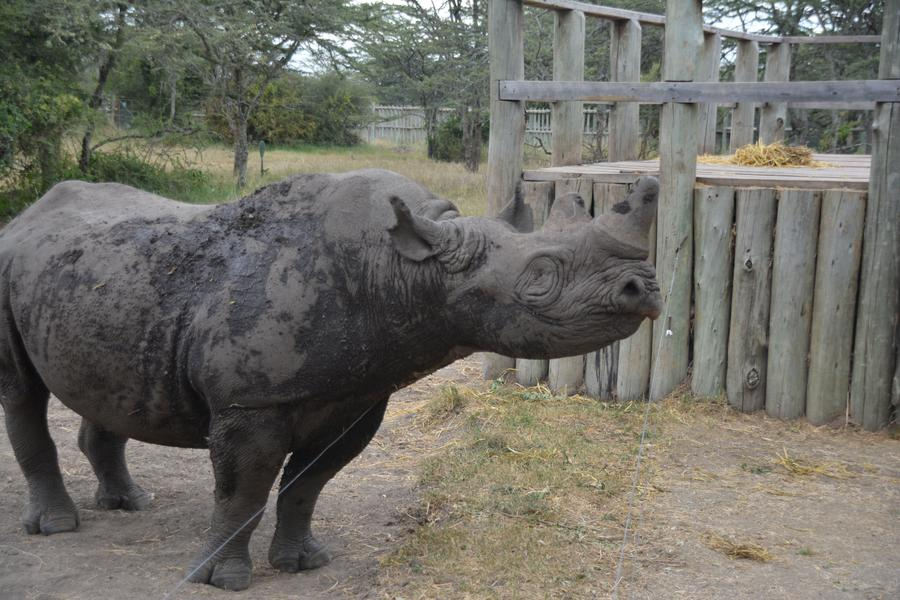rhino: (7, 167, 585, 559)
